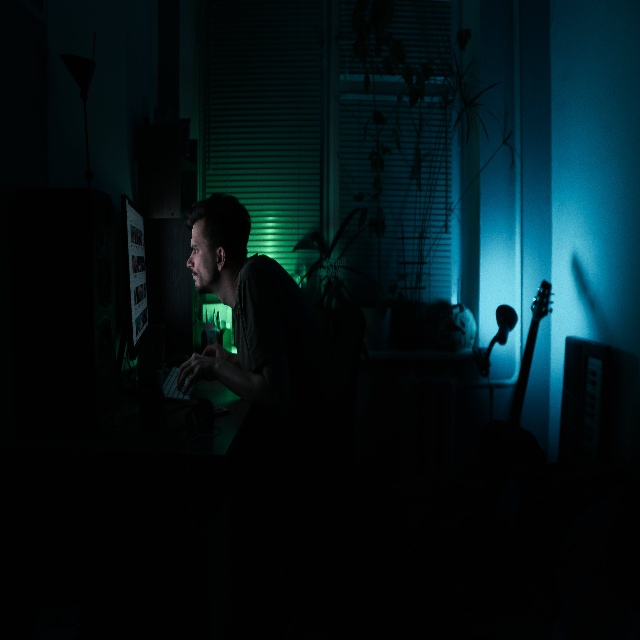Sin_guantes: (176, 352, 216, 395), (203, 343, 223, 357)
